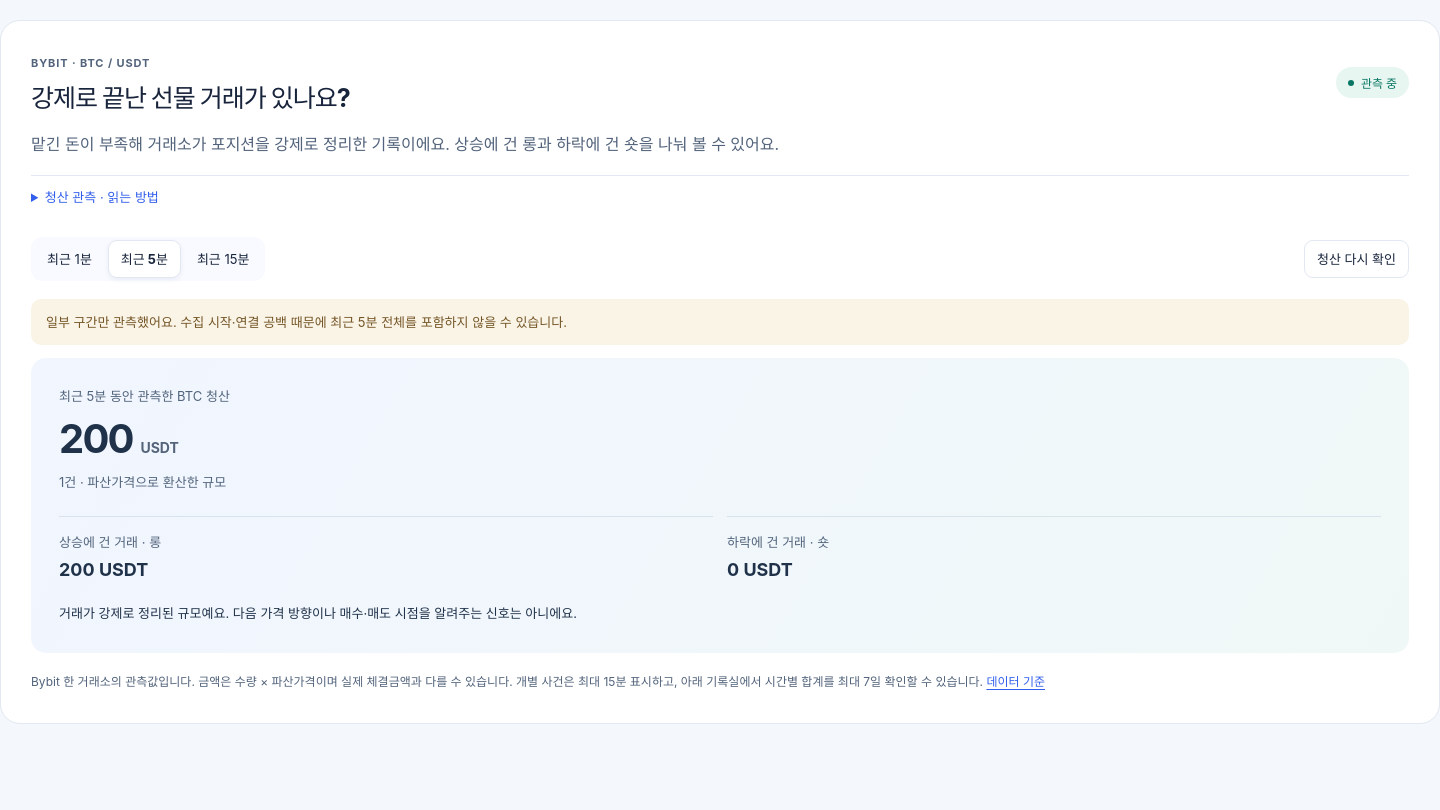
simple mode explains observed notional and incomplete coverage without a raw table
Expected: the text "상승에 건 거래 · 롱" is shown, [59,534,161,550]
Expected: the text "일부 구간만 관측했어요. 수집 시작·연결 공백 때문에 최근 5분 전체를 포함하지 않을 수 있습니다." is shown, [31,298,1409,345]
Click the button "최근 15분": {"x": 223, "y": 258} [184,240,262,278]
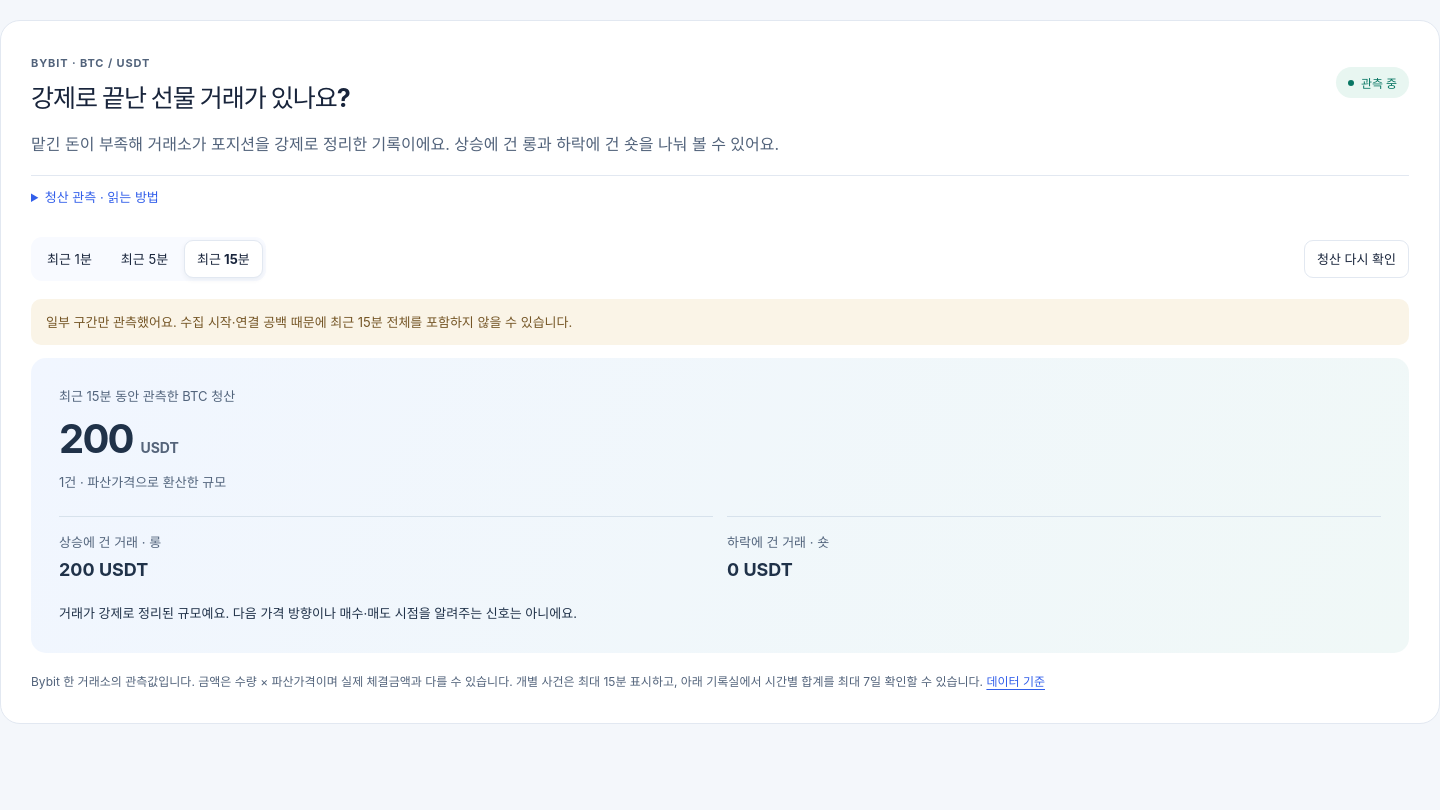
Expected: the text "최근 15분 동안 관측한 BTC 청산" is shown, [59,388,235,404]
